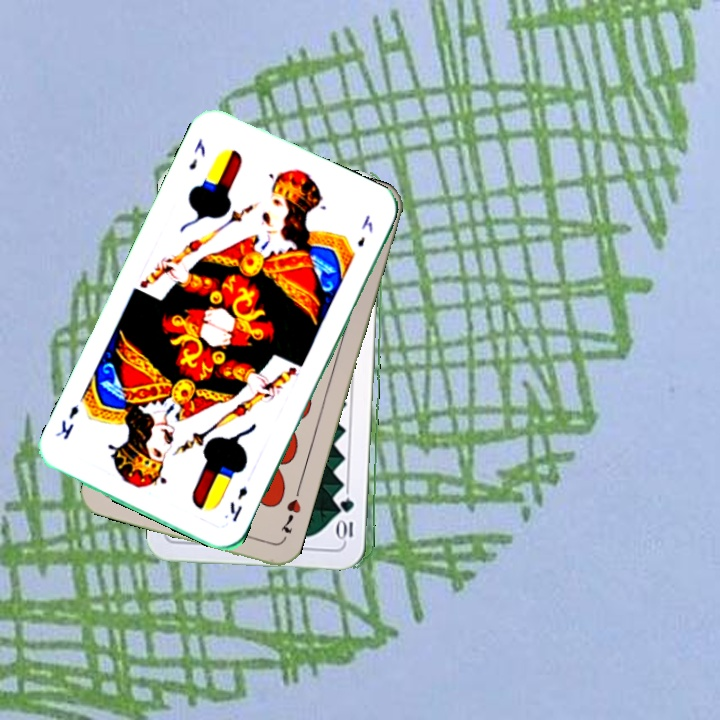EK: (226, 481, 251, 524), (184, 134, 208, 173)
G10: (339, 493, 356, 544)
H7: (276, 495, 304, 536)
